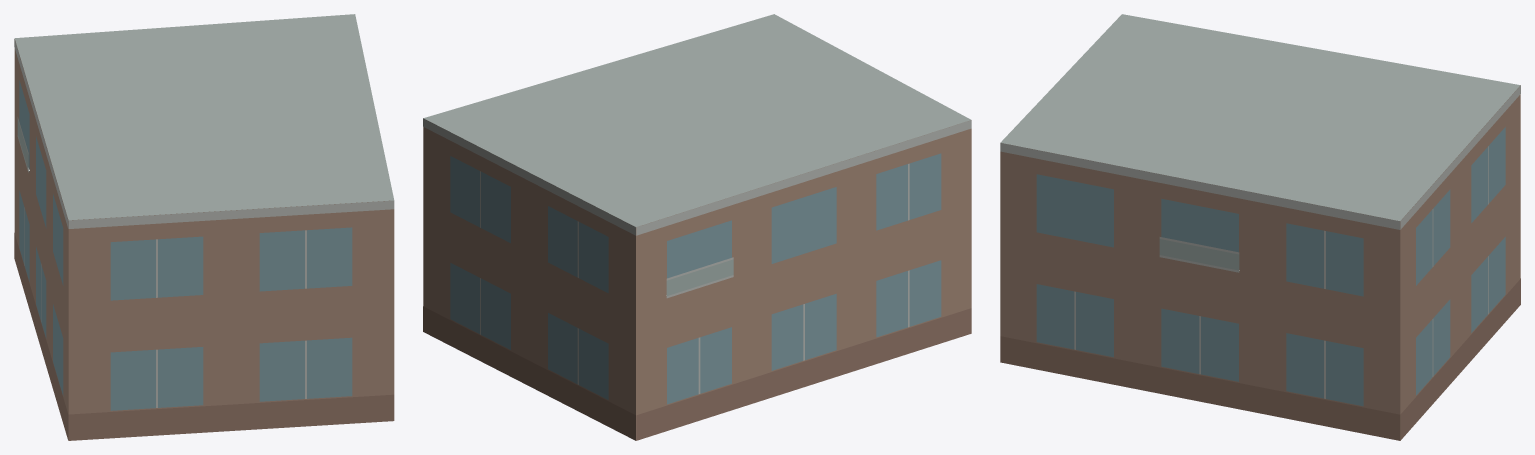
The model's file is survey-upis-32536632.glb.
3 renders of one model, left to right at view 1: azimuth 30°, elevation 25°; view 2: azimuth 150°, elevation 25°; view 3: azimuth 270°, elevation 25°, orthographic. The views are drawn at different scales.
Visible parts, largest first — view 1: survey-upis-32536632.tmp; view 2: survey-upis-32536632.tmp; view 3: survey-upis-32536632.tmp.
Boxes of the visible parts, x1=… form: survey-upis-32536632.tmp: x1=14, y1=14, x2=394, y2=440; survey-upis-32536632.tmp: x1=423, y1=14, x2=971, y2=440; survey-upis-32536632.tmp: x1=1000, y1=14, x2=1520, y2=440.
Bounding box in the file's own units: 12.35 × 6.1 × 13.11.
